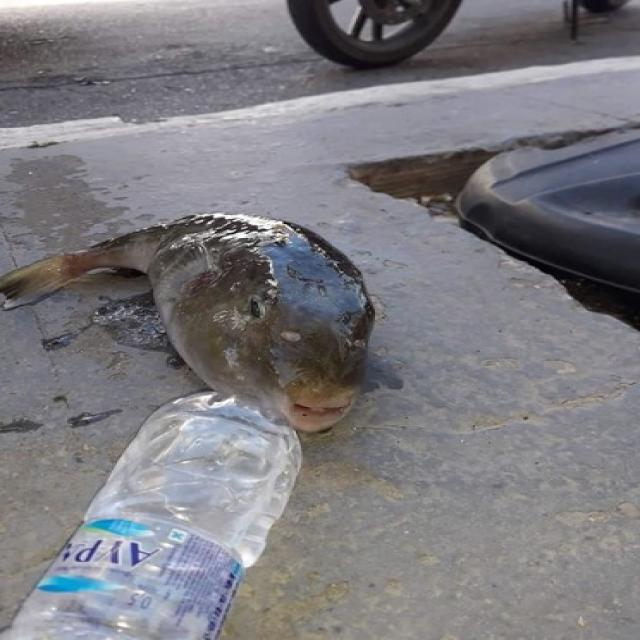Balik: (0, 213, 375, 431)
